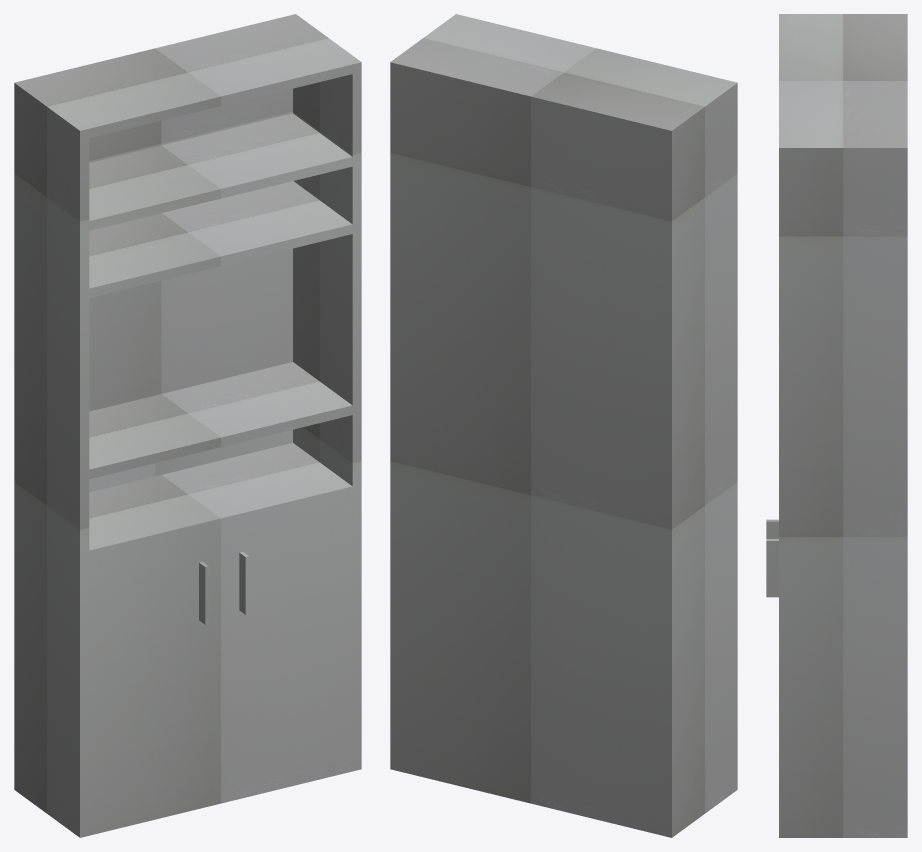
Rendered from leftShelves.dae.
3 views of the same model, side by side, from view 1: azimuth 30°, elevation 25°; view 2: azimuth 150°, elevation 25°; view 3: azimuth 270°, elevation 25° (orthographic). The views are drawn at different scales.
Visible parts, largest first — view 1: SketchUp (×6); view 2: SketchUp (×2); view 3: SketchUp (×2).
Boxes of the visible parts, left/top/right/bottom form: SketchUp (×6): left=14, top=14, right=361, bottom=837; SketchUp (×2): left=390, top=14, right=737, bottom=837; SketchUp (×2): left=766, top=14, right=907, bottom=837.
Size of the model in its own units: 30.12 by 13.39 by 72.24.
Materials: 1 (1 with a texture image).
